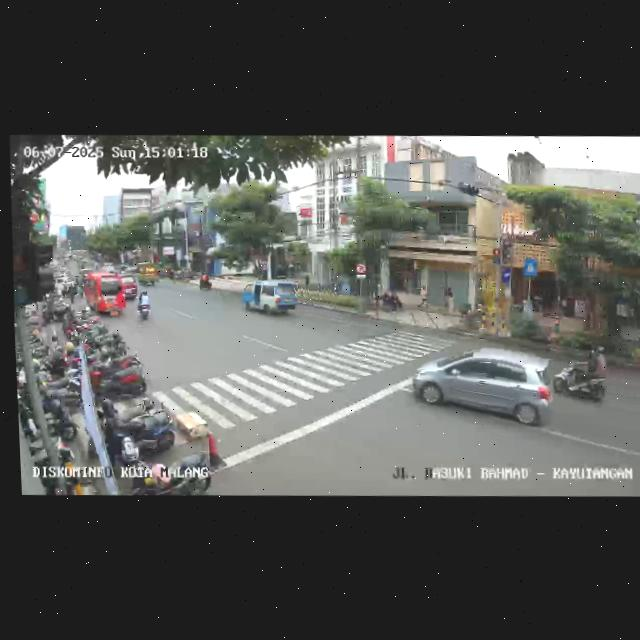car: (407, 347, 553, 432), (241, 279, 299, 320), (80, 270, 127, 317), (136, 262, 159, 286)
motorcycle: (550, 344, 610, 405), (135, 290, 154, 321)
